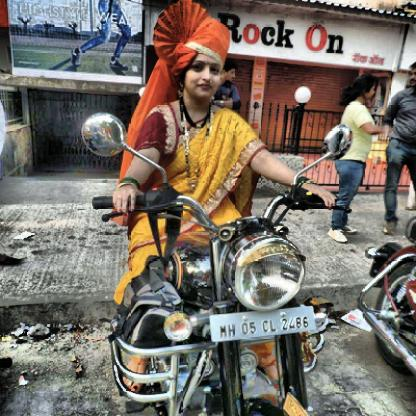not_wear: (170, 23, 220, 104)
